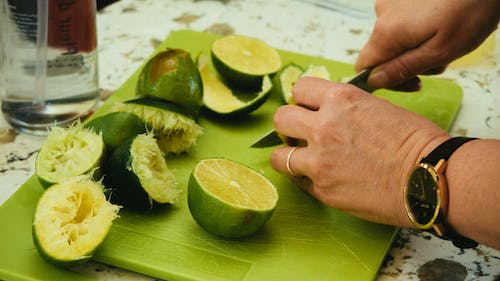knife: (247, 64, 374, 150)
